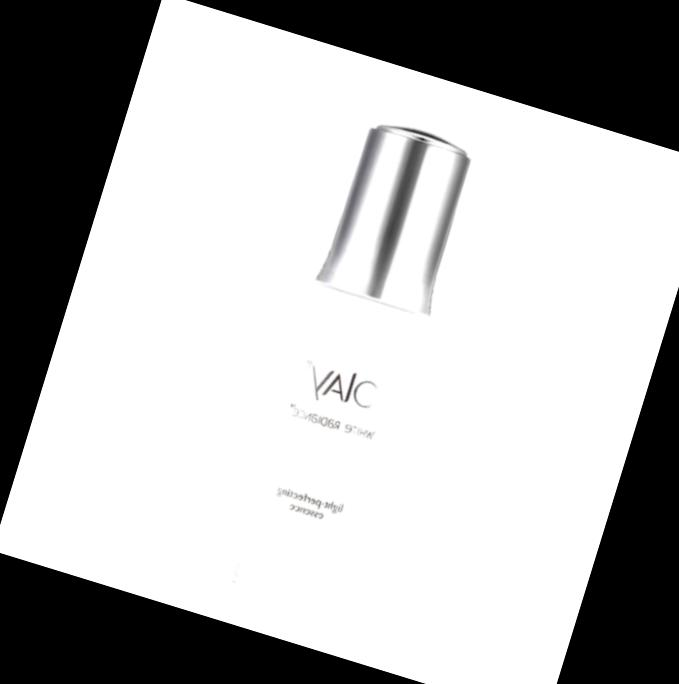cosmetic: (223, 111, 484, 610)
